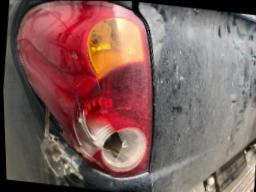Bumper: (4, 112, 138, 192)
Light: (13, 1, 157, 184)
